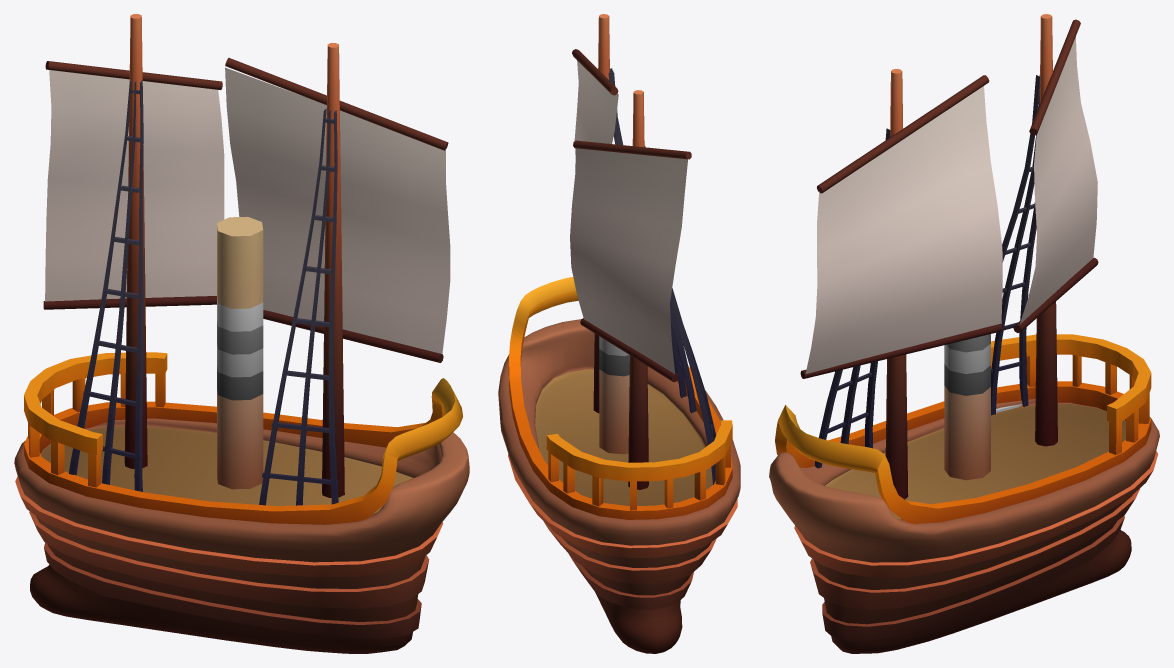
File: lighthouse.gltf
The picture shows the model from 3 angles, left to right: view 1: azimuth 30°, elevation 25°; view 2: azimuth 150°, elevation 25°; view 3: azimuth 270°, elevation 25°; orthographic projection. The views are drawn at different scales.
Visible parts, largest first — view 1: Cube.045_0; view 2: Cube.045_0; view 3: Cube.045_0.
Part boxes in pixels (<box>): Cube.045_0: <box>14,14,469,653</box>; Cube.045_0: <box>498,14,740,653</box>; Cube.045_0: <box>769,14,1159,653</box>.
Size of the model in its own units: 7.17 by 12.28 by 7.62.
Materials: 1 (1 with a texture image).
